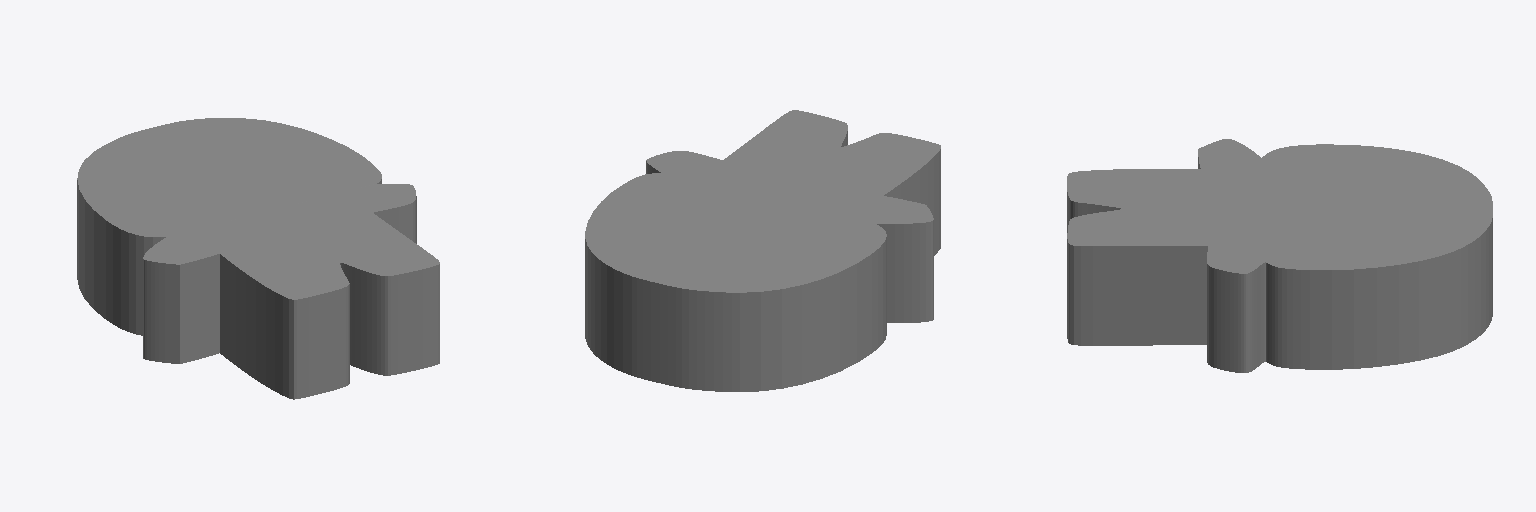
File: Dog.obj
3 views of the same model, side by side, from view 1: azimuth 30°, elevation 25°; view 2: azimuth 150°, elevation 25°; view 3: azimuth 270°, elevation 25° (orthographic).
Visible parts, largest first — view 1: Shape1; view 2: Shape1; view 3: Shape1.
Boxes of the visible parts, <box> form: Shape1: <box>77,118,439,399</box>; Shape1: <box>585,110,940,391</box>; Shape1: <box>1067,139,1492,372</box>.
Size of the model in its own units: 2.92 by 1 by 3.88.